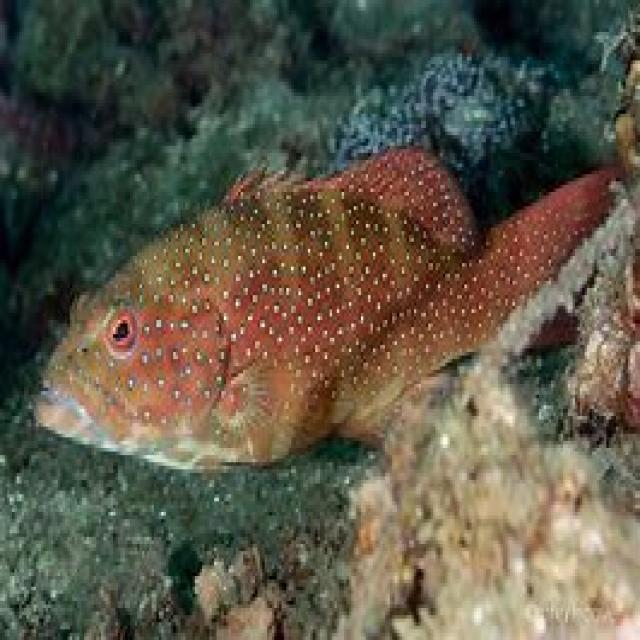Plectropomus-leopardus: (26, 121, 624, 498)
